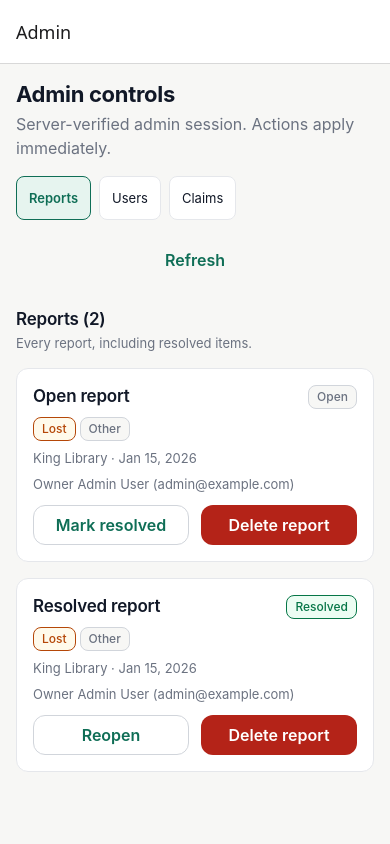
it: switches to users and claims sections
The image size is (390, 844).
Check: the heading "Reports (2)" is shown, box [16, 309, 106, 329]
Click the button "Users": [130, 198] box [99, 176, 161, 220]
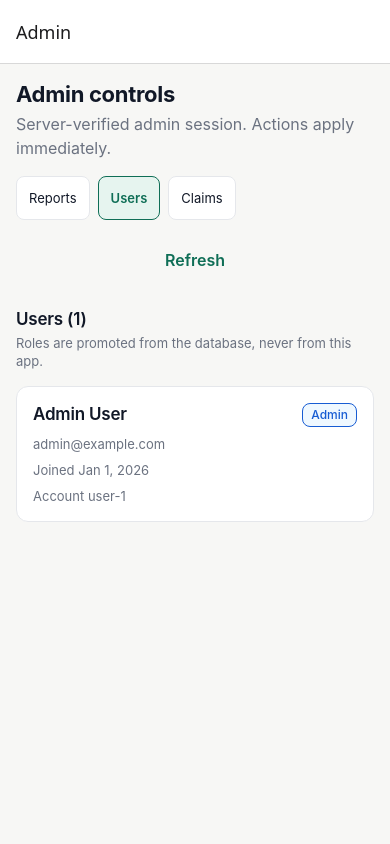
Check: the text "admin@example.com" is shown, box [33, 436, 165, 452]
Check: the heading "Users (1)" is shown, box [16, 309, 87, 329]
Click the button "Claims": [202, 198] box [168, 176, 236, 220]
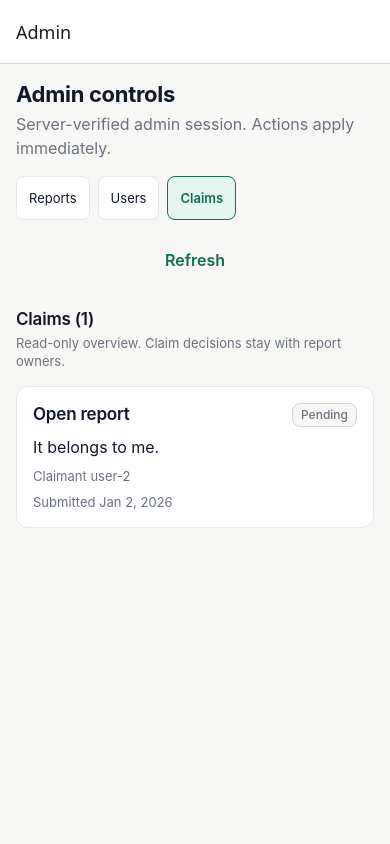
Check: the heading "Claims (1)" is shown, box [16, 309, 94, 329]
Check: the text "It belongs to me." is shown, box [33, 437, 159, 457]
